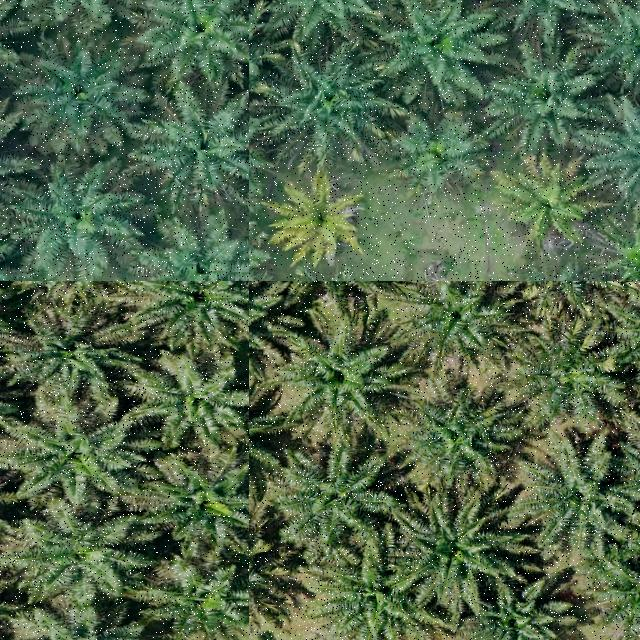Ganoderma: (281, 184, 360, 254), (508, 172, 586, 237), (616, 226, 640, 281)
